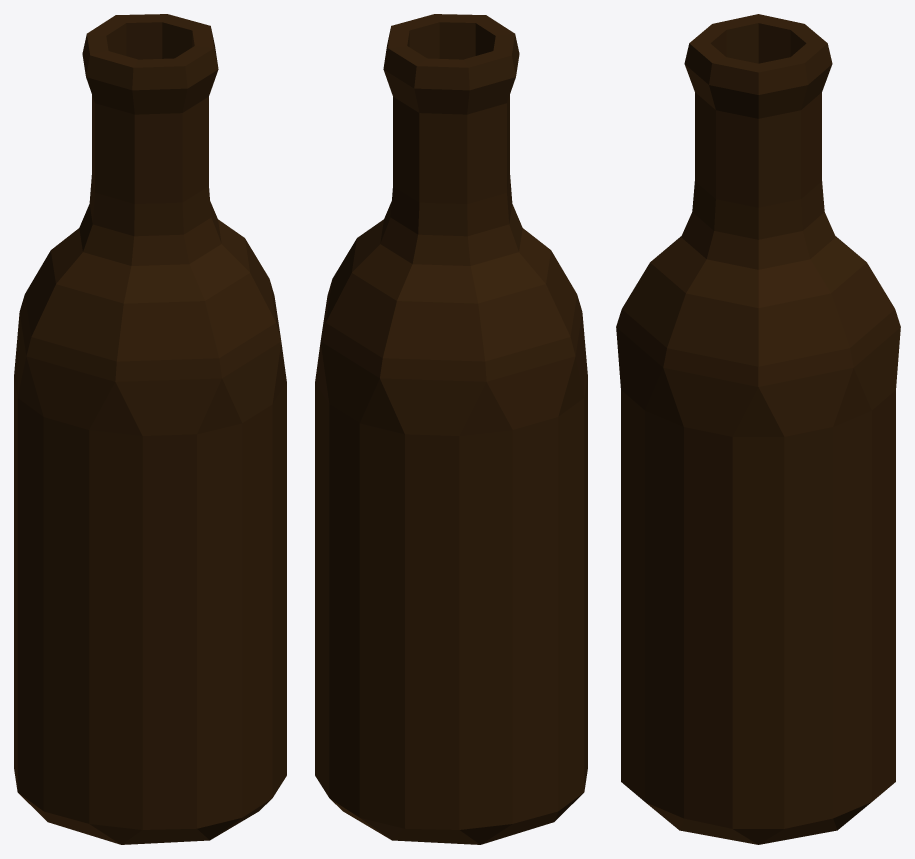
File: bottle.fbx
3 views of the same model, side by side, from view 1: azimuth 30°, elevation 25°; view 2: azimuth 150°, elevation 25°; view 3: azimuth 270°, elevation 25° (orthographic).
Visible parts, largest first — view 1: Cube; view 2: Cube; view 3: Cube.
Part boxes in pixels (x1,y1,x2,y2): Cube: [14, 14, 286, 844]; Cube: [315, 14, 587, 844]; Cube: [616, 14, 900, 844].
Bounding box in the file's own units: 283 × 827 × 283.
